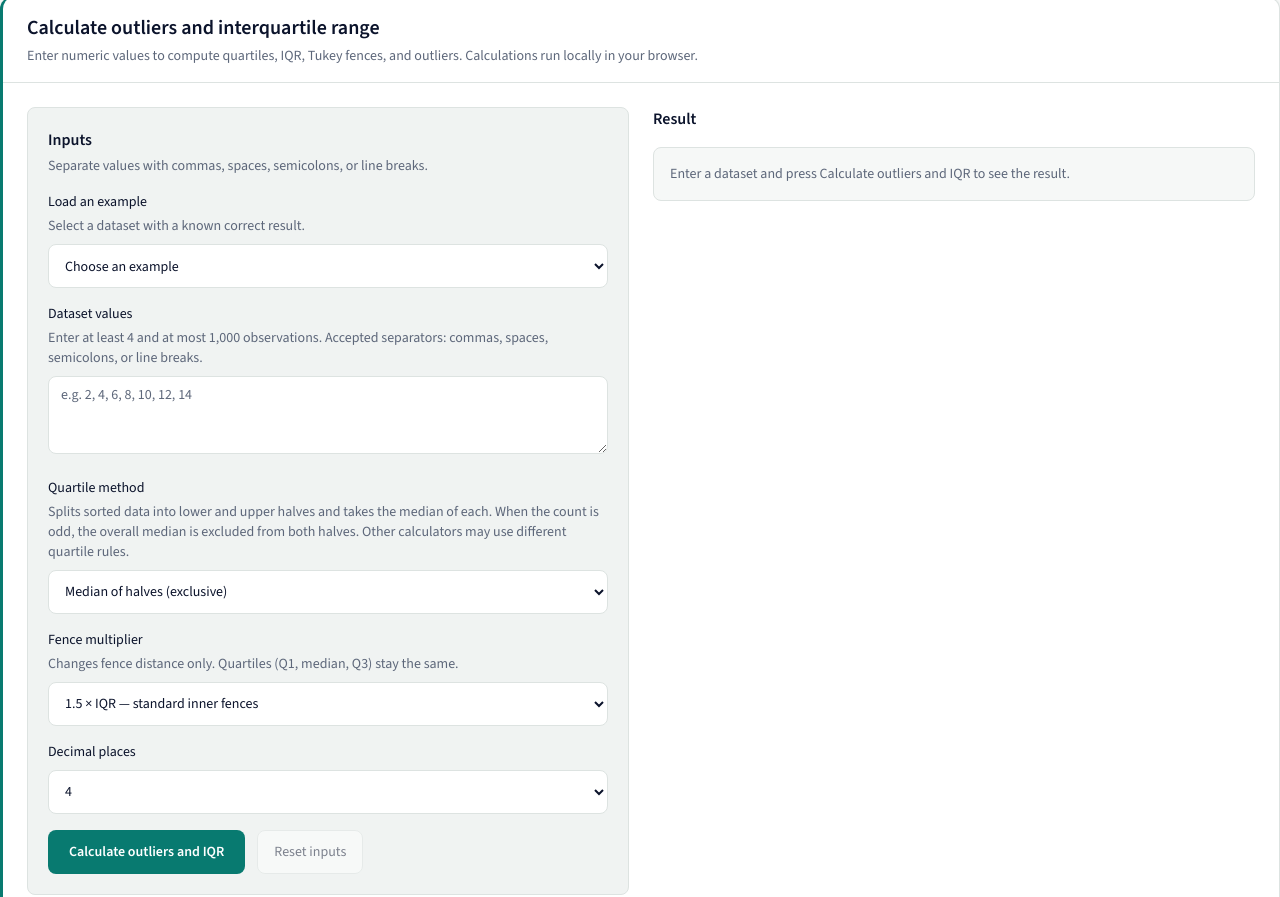
Test: Outlier/IQR Calculator Page V2 regression › keeps compact accessible five-number and fence grids with all values
Type "1, 2, 3, 4, 5, 6, 7, 8, 9, 100" into the text box labelled "Dataset values".
click(328, 415); type("1, 2, 3, 4, 5, 6, 7, 8, 9, 100")  # box 48,376 -> 608,454
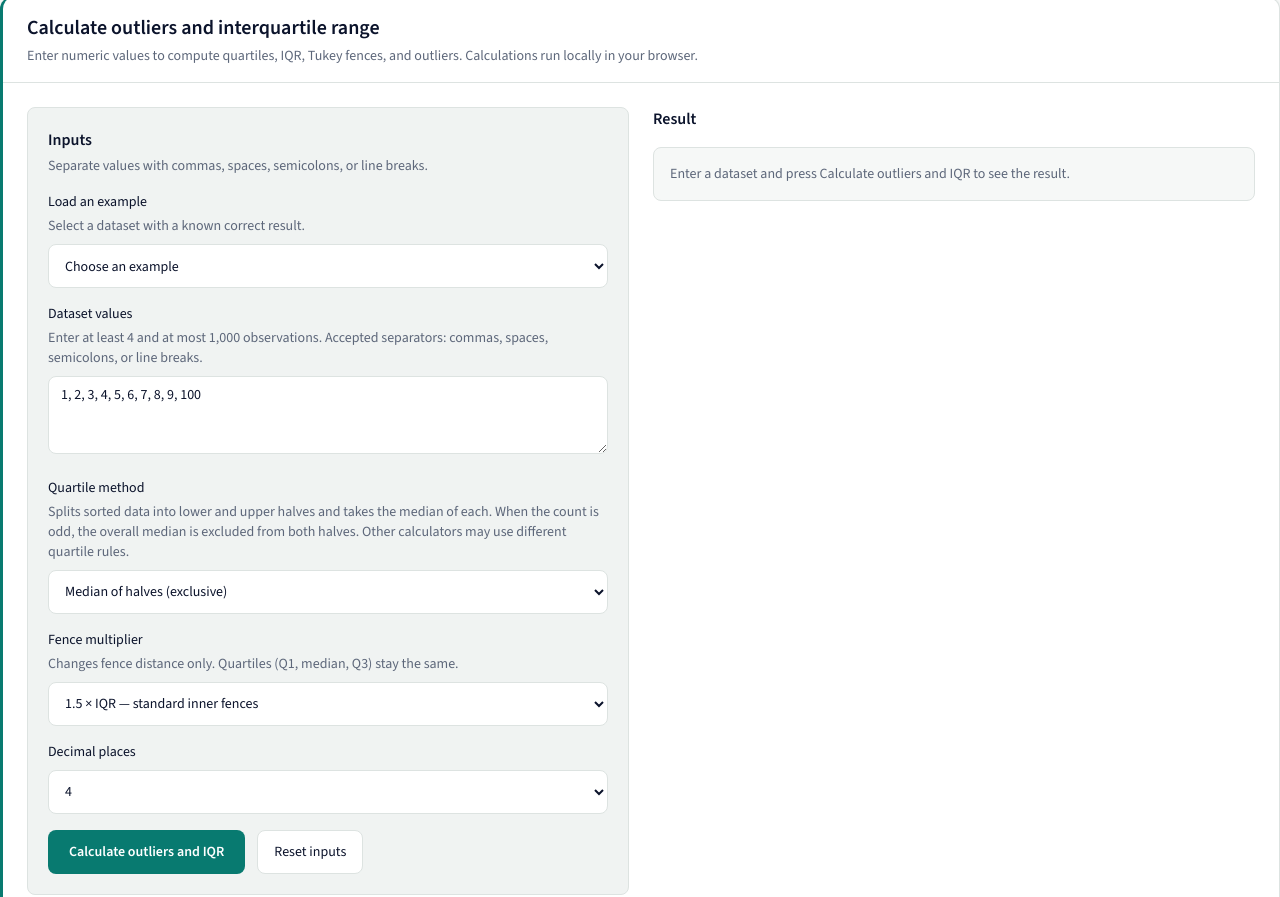
Click the button "Calculate outliers and IQR".
click(147, 852)  # box 48,830 -> 245,874
(page scrolled)
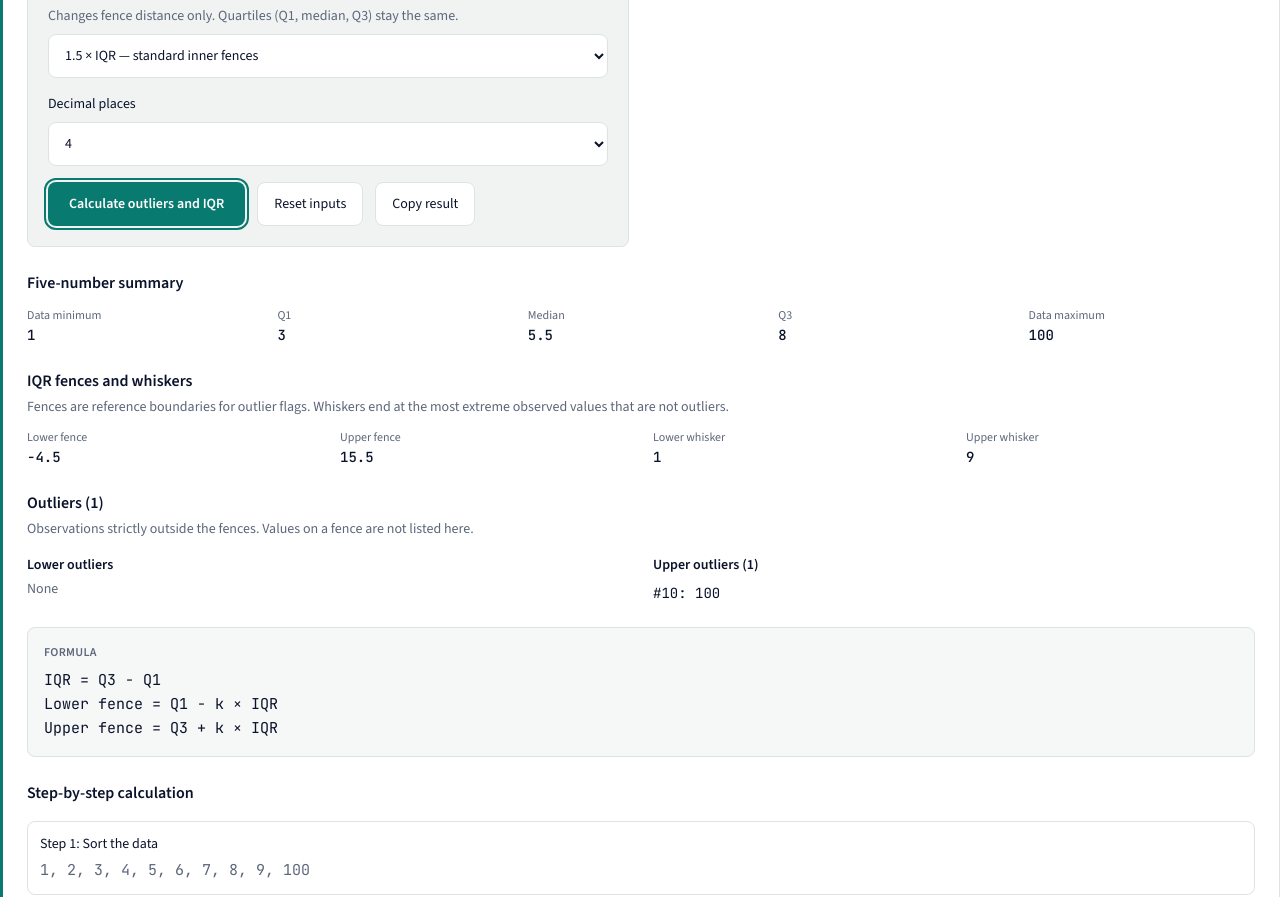
Now the text "3" is shown, box 277,326 -> 286,344
Now the text "5.5" is shown, box 528,326 -> 553,344
Now the text "8" is shown, box 778,326 -> 787,344
